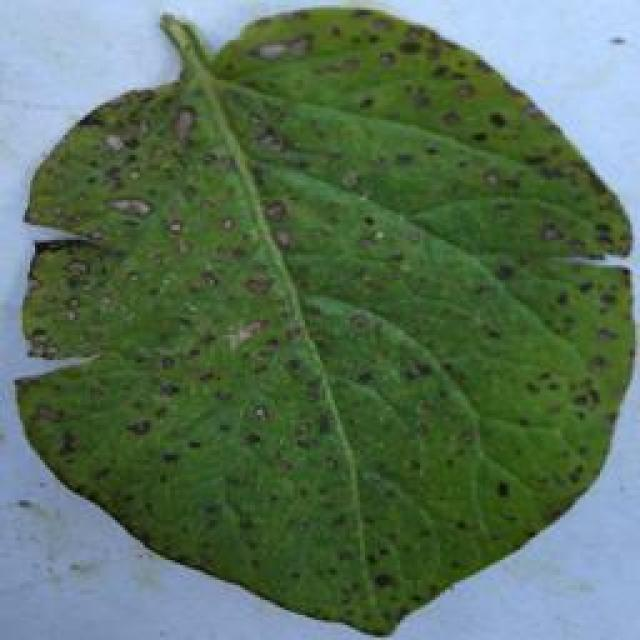Potato_Early_Blight: (5, 11, 633, 632)
